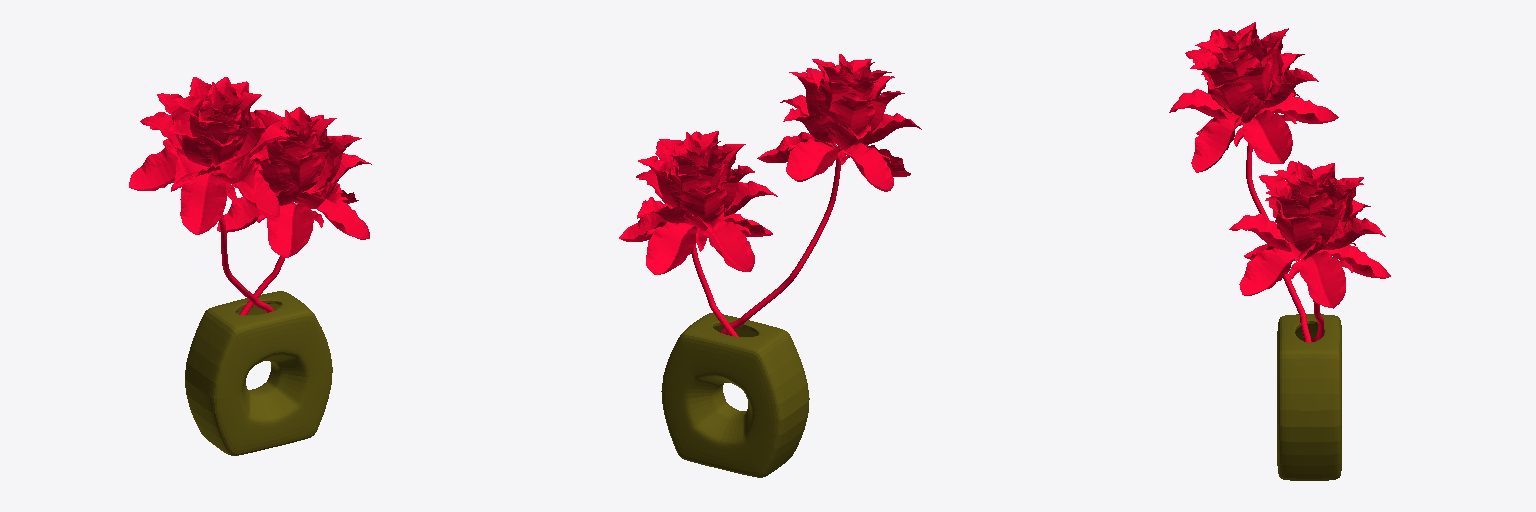
File: Vase.obj
The picture shows the model from 3 angles: view 1: azimuth 30°, elevation 25°; view 2: azimuth 150°, elevation 25°; view 3: azimuth 270°, elevation 25°; orthographic projection.
Visible parts, largest first — view 1: Box002, Sweep_NURBS_1, Plane039_2_3, Object001; view 2: Box002, Plane039_2_3, Sweep_NURBS_1, Object001, Object002; view 3: Plane039_2_3, Sweep_NURBS_1, Box002, Object001.
Boxes of the visible parts, box(x1,y1,x2,y2) form: Box002: box(185, 291, 332, 455); Sweep_NURBS_1: box(129, 77, 289, 234); Plane039_2_3: box(217, 107, 371, 257); Object001: box(219, 214, 273, 312); Box002: box(661, 313, 809, 477); Plane039_2_3: box(619, 131, 777, 274); Sweep_NURBS_1: box(757, 54, 921, 191); Object001: box(720, 151, 840, 334); Object002: box(691, 244, 738, 336); Plane039_2_3: box(1229, 161, 1390, 308); Sweep_NURBS_1: box(1169, 22, 1338, 172); Box002: box(1277, 314, 1341, 480); Object001: box(1246, 116, 1311, 342).
Bounding box in the file's own units: 350 × 533 × 270.